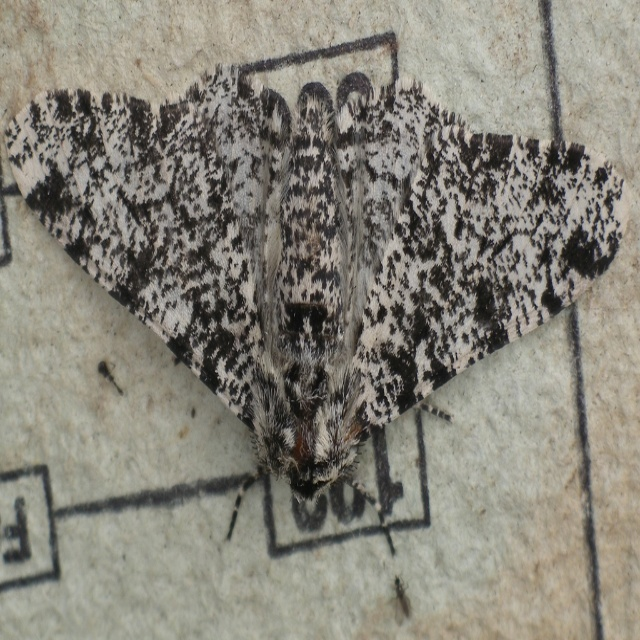Moths and butterflies: (1, 59, 635, 562)
